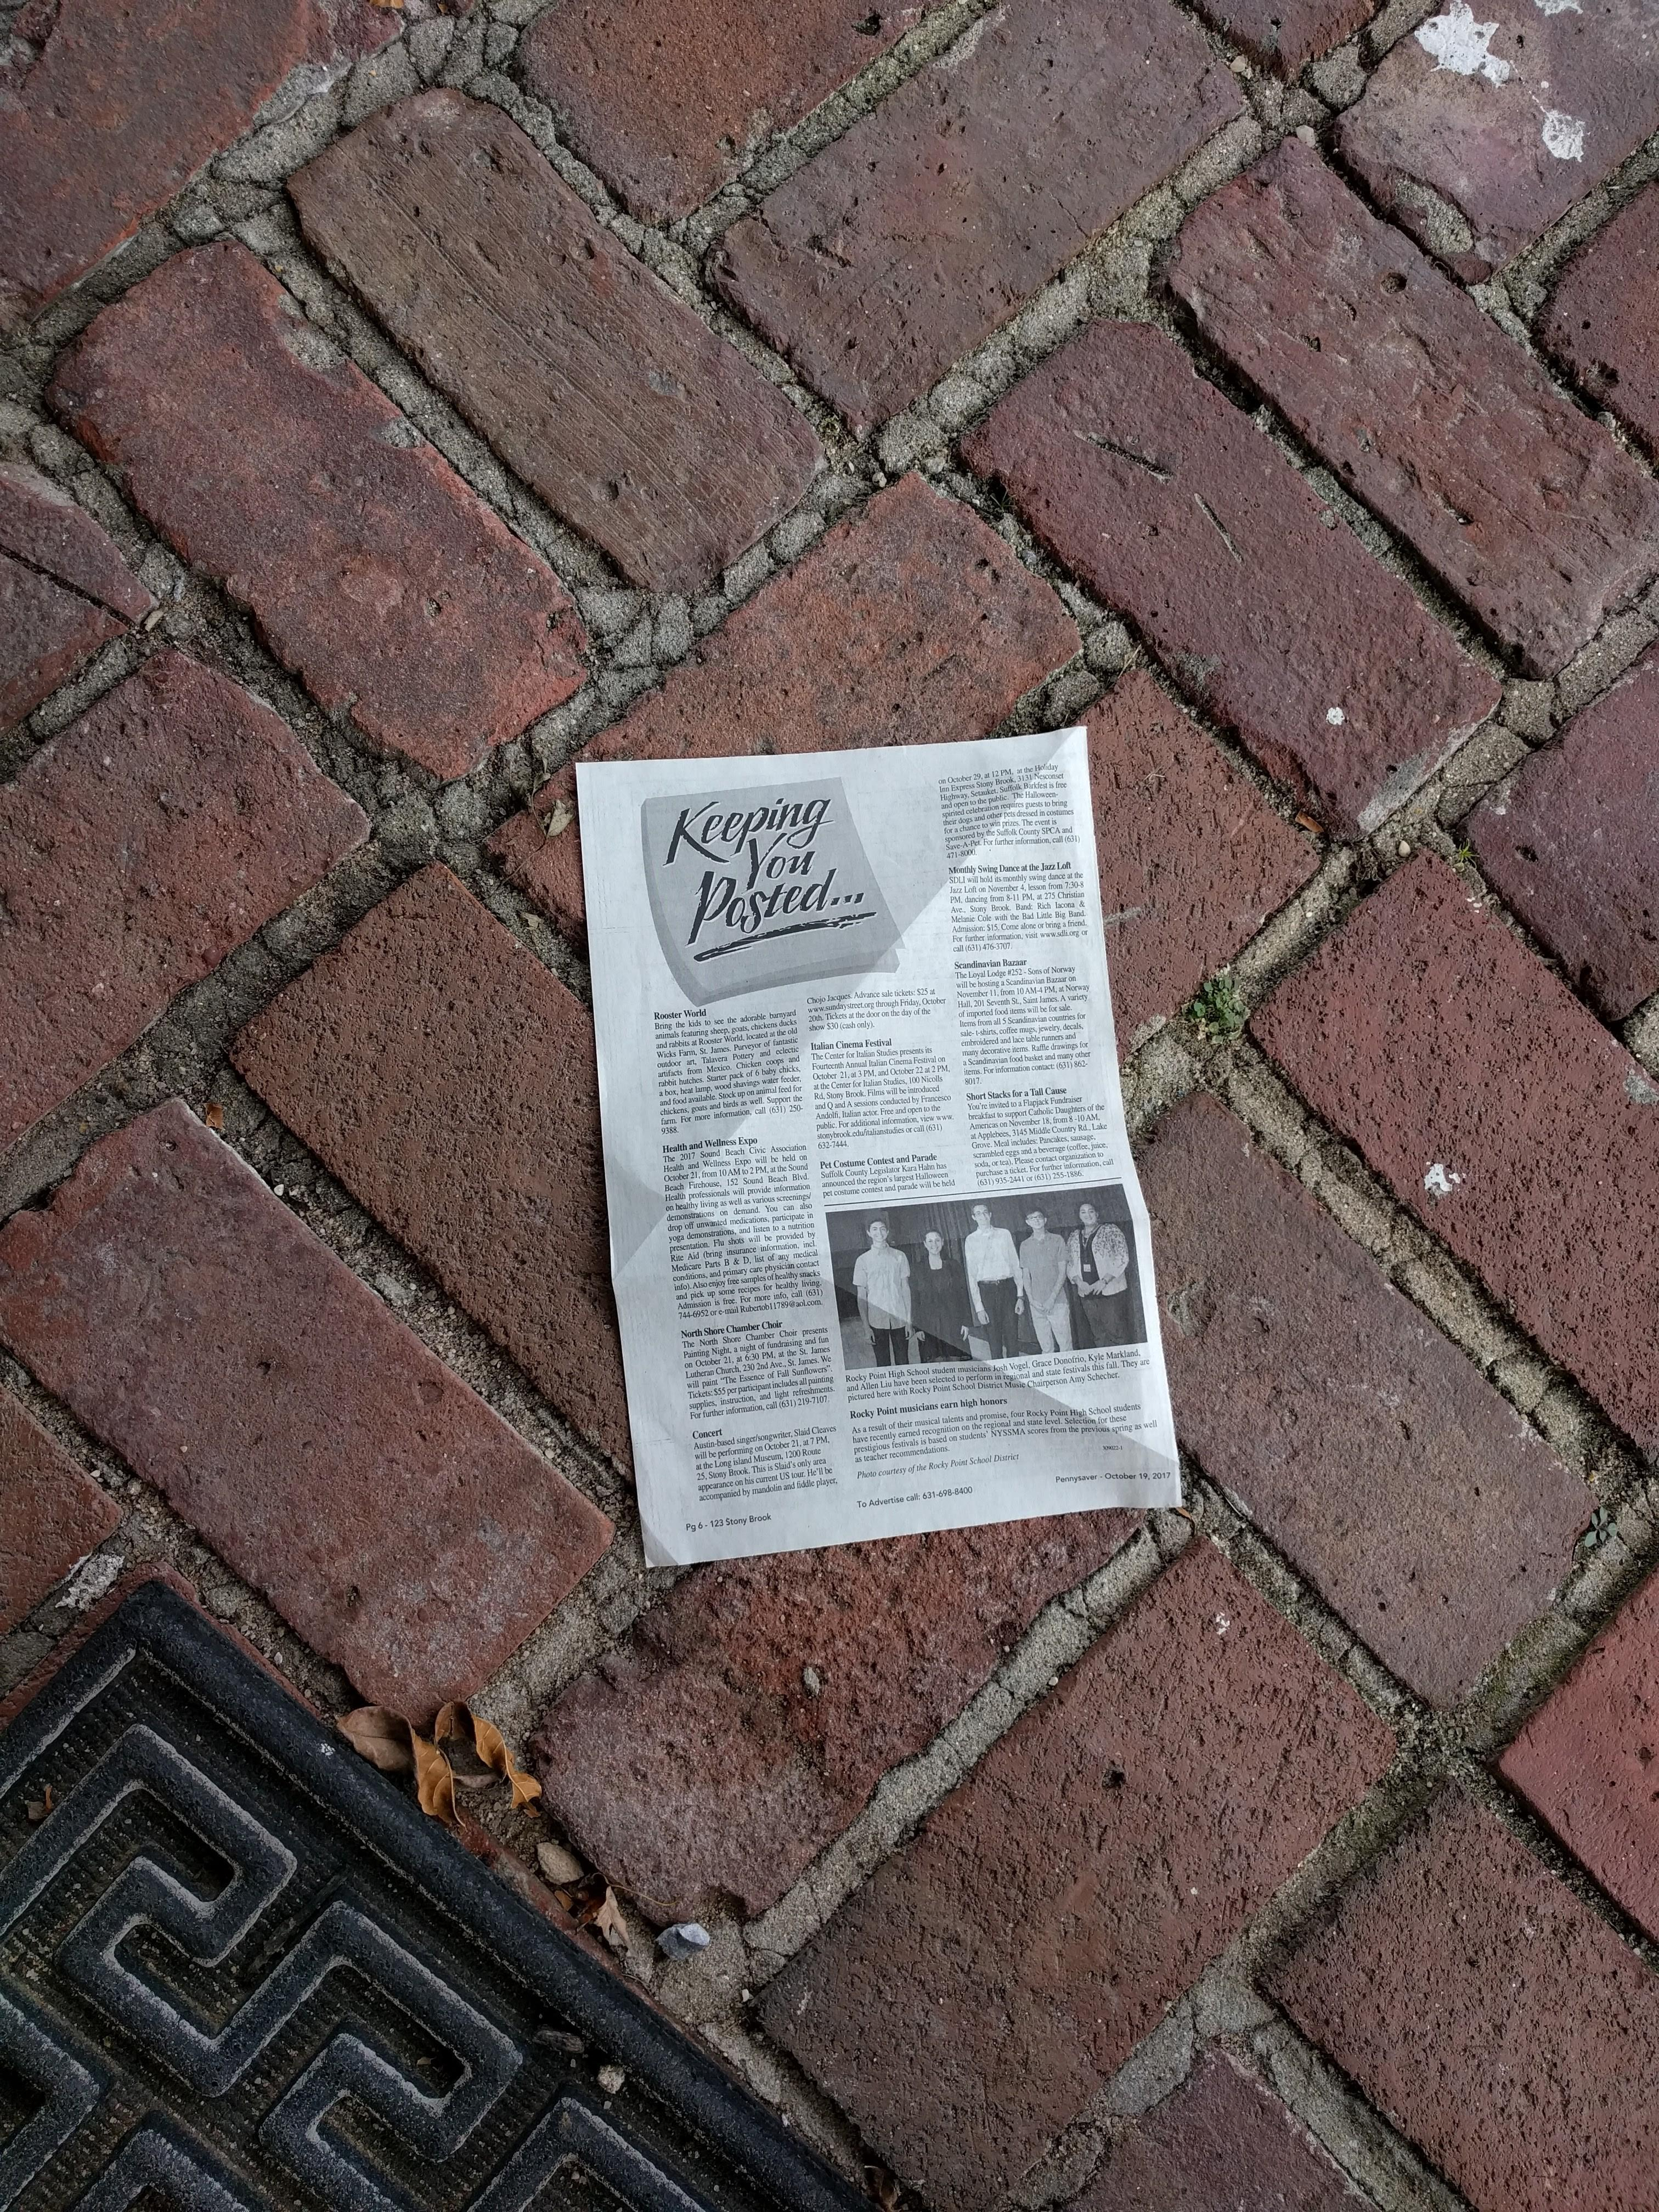paper: (472, 678, 1239, 1660)
